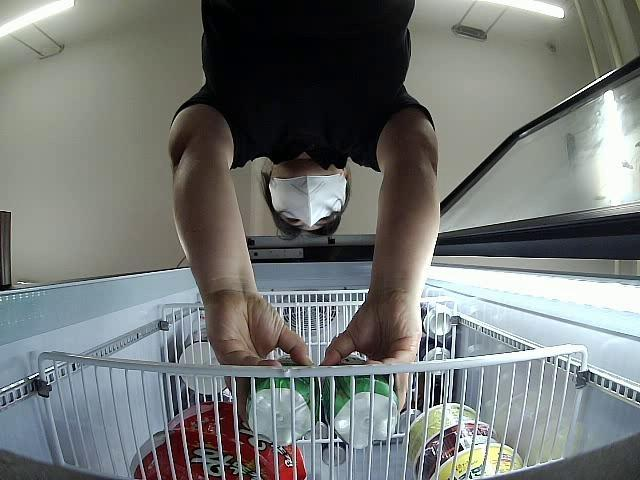18_trevi: (327, 350, 400, 450), (242, 357, 314, 444)
